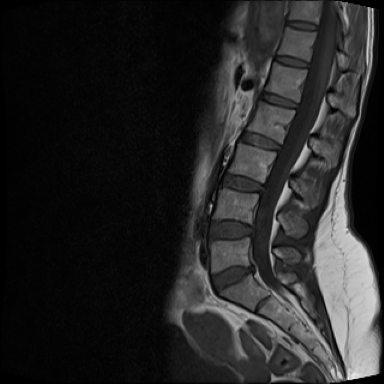Lumbar Disc Bulge (LDB): (204, 257, 263, 299), (205, 217, 260, 246)
Normal IVD: (215, 168, 268, 196), (254, 86, 302, 116), (237, 125, 285, 155), (269, 50, 311, 72), (283, 17, 320, 34)
Spinal Stenosis (SS): (243, 220, 257, 243), (247, 260, 258, 279)
